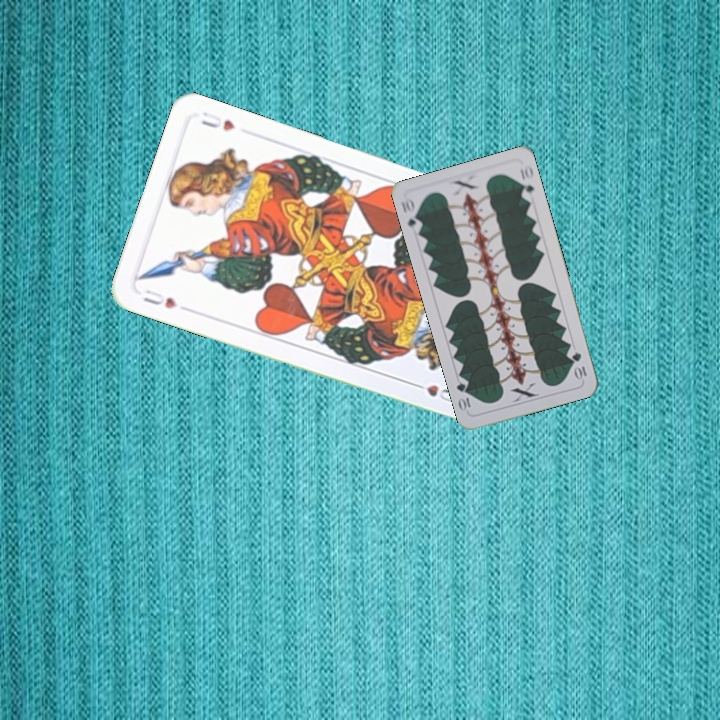G10: (397, 195, 424, 233), (568, 348, 589, 382)
HU: (139, 284, 191, 314)
